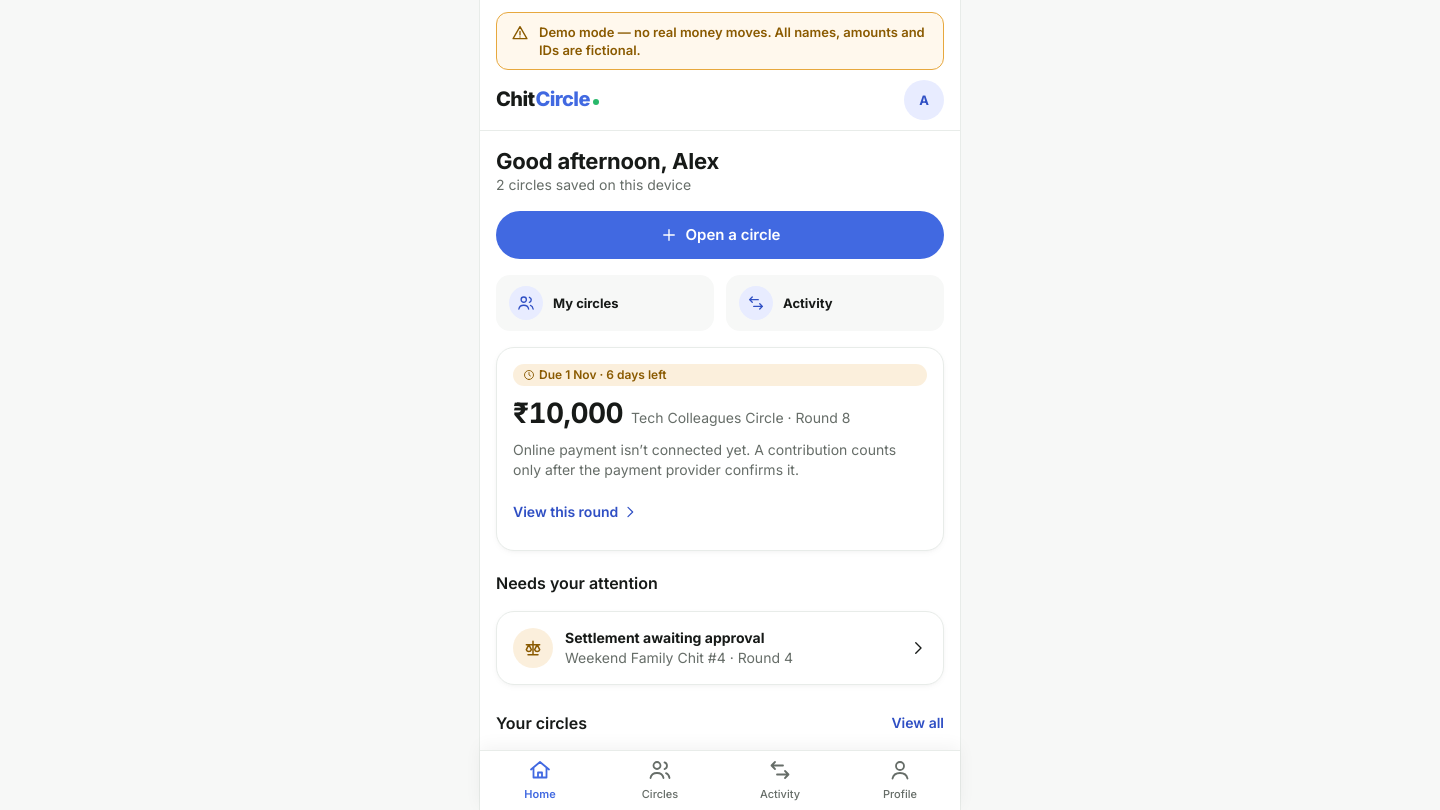
Home (demo) › opens the "Open a circle" sheet
Click the button "Open a circle" at {"x": 720, "y": 235}, box [496,211,944,259]
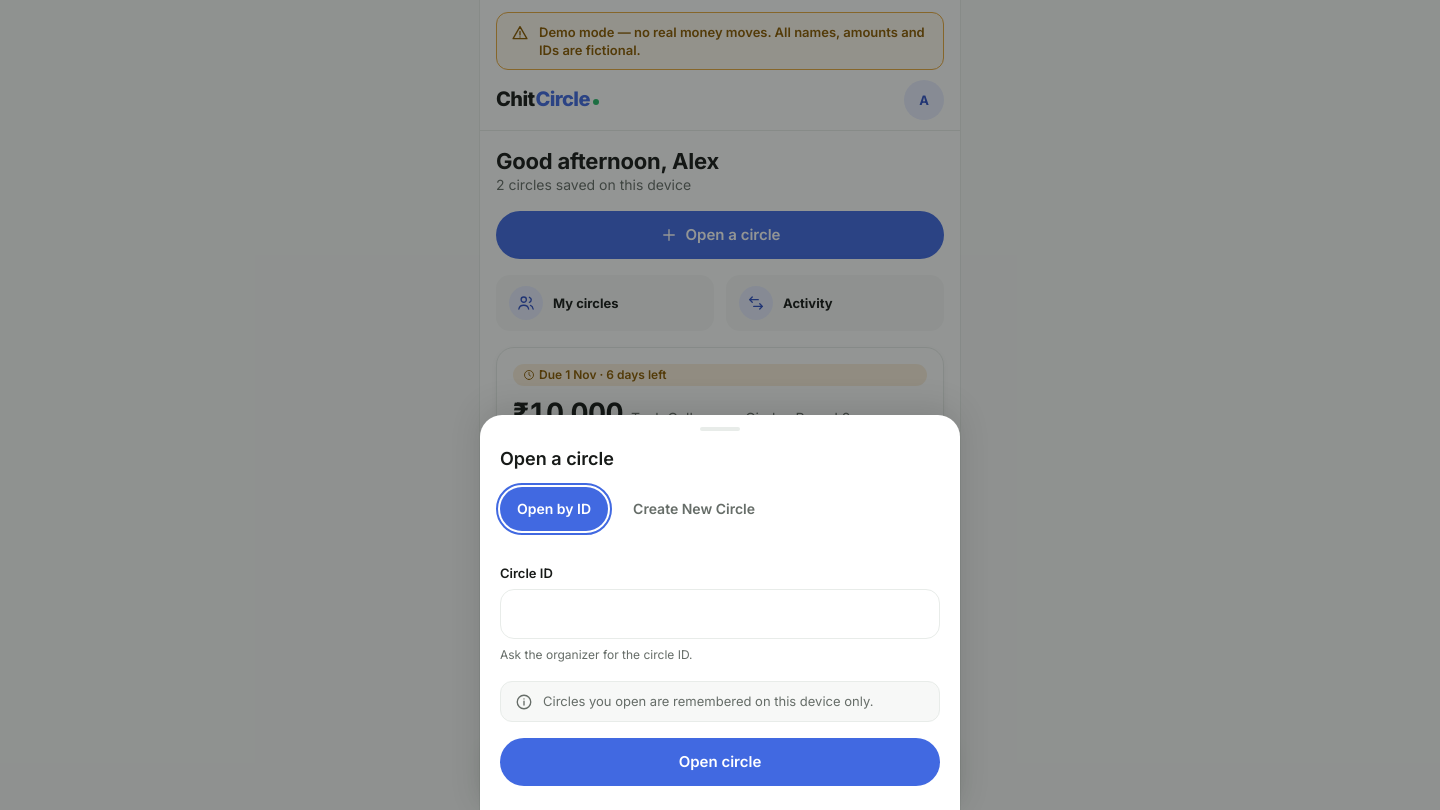
Expected: the dialog "Open a circle" is shown, [480,415,960,809]
